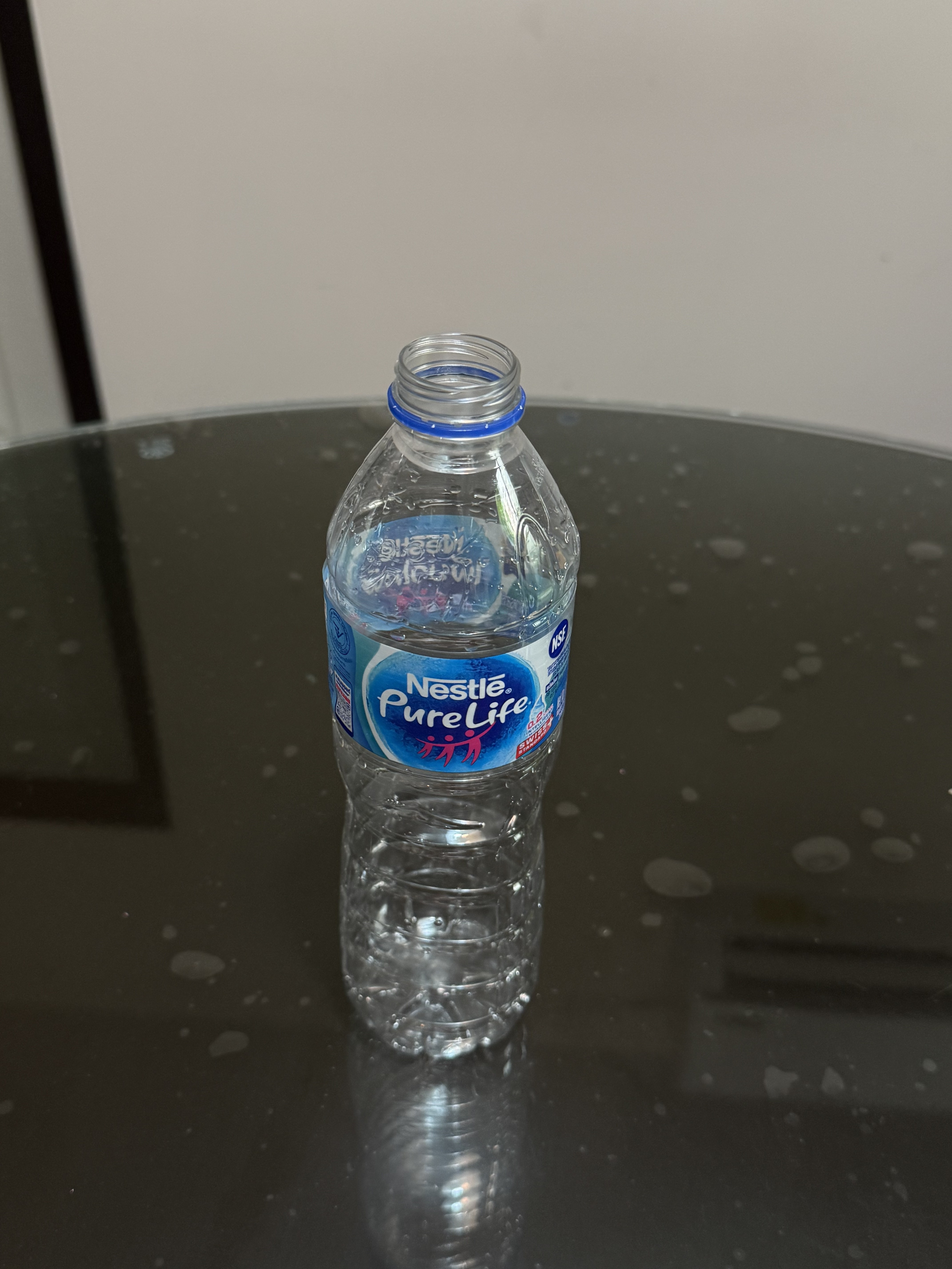no_cap: (383, 327, 530, 445)
